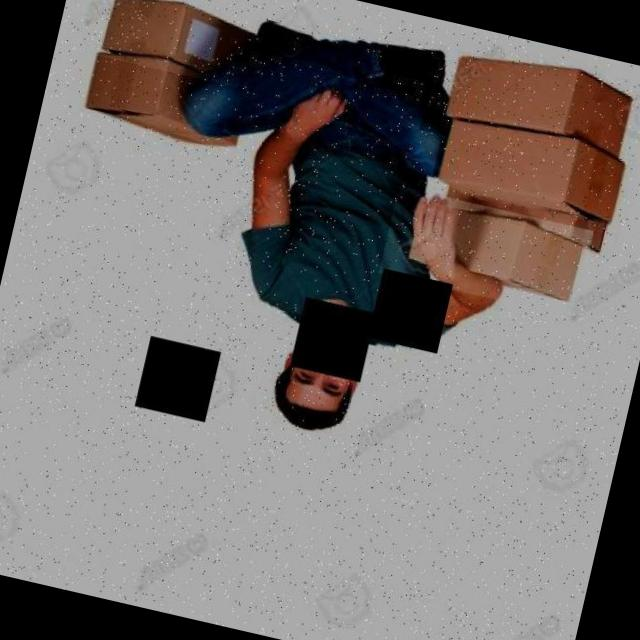box: (418, 34, 640, 177), (423, 115, 640, 259), (378, 185, 593, 318), (62, 36, 256, 168), (87, 0, 253, 87)
